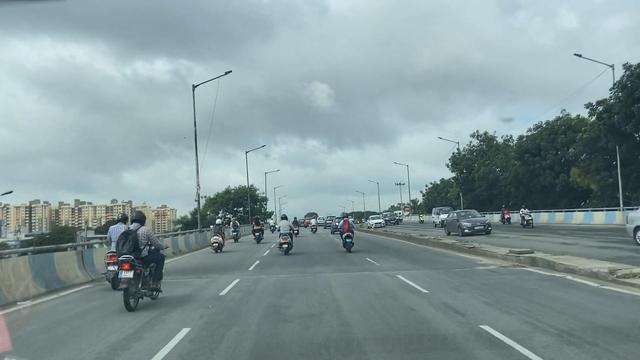LMV: (120, 211, 165, 304), (278, 215, 293, 251), (209, 217, 224, 250), (251, 214, 264, 247), (231, 217, 244, 241)
RoadDamages: (479, 259, 528, 273)
UnsurfacedRoad: (183, 271, 329, 280), (345, 267, 471, 276), (337, 215, 353, 248)
